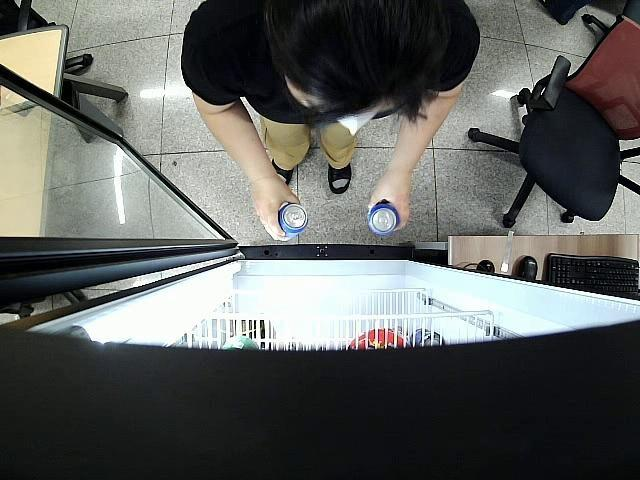13_pocariSweat: (275, 204, 308, 242), (368, 201, 399, 236)
